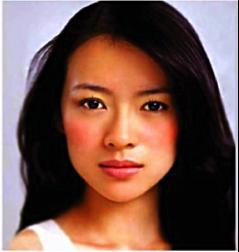Drunk: (69, 47, 175, 194)
